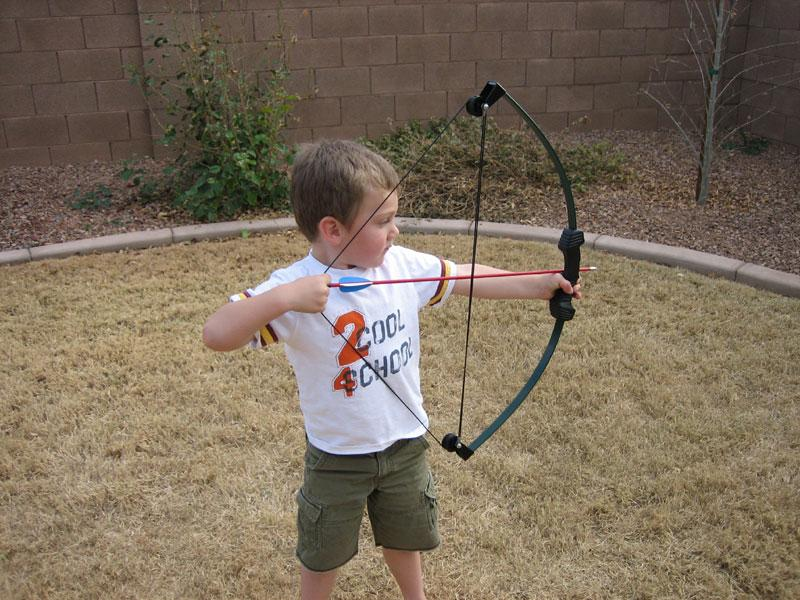person: (201, 140, 586, 598)
